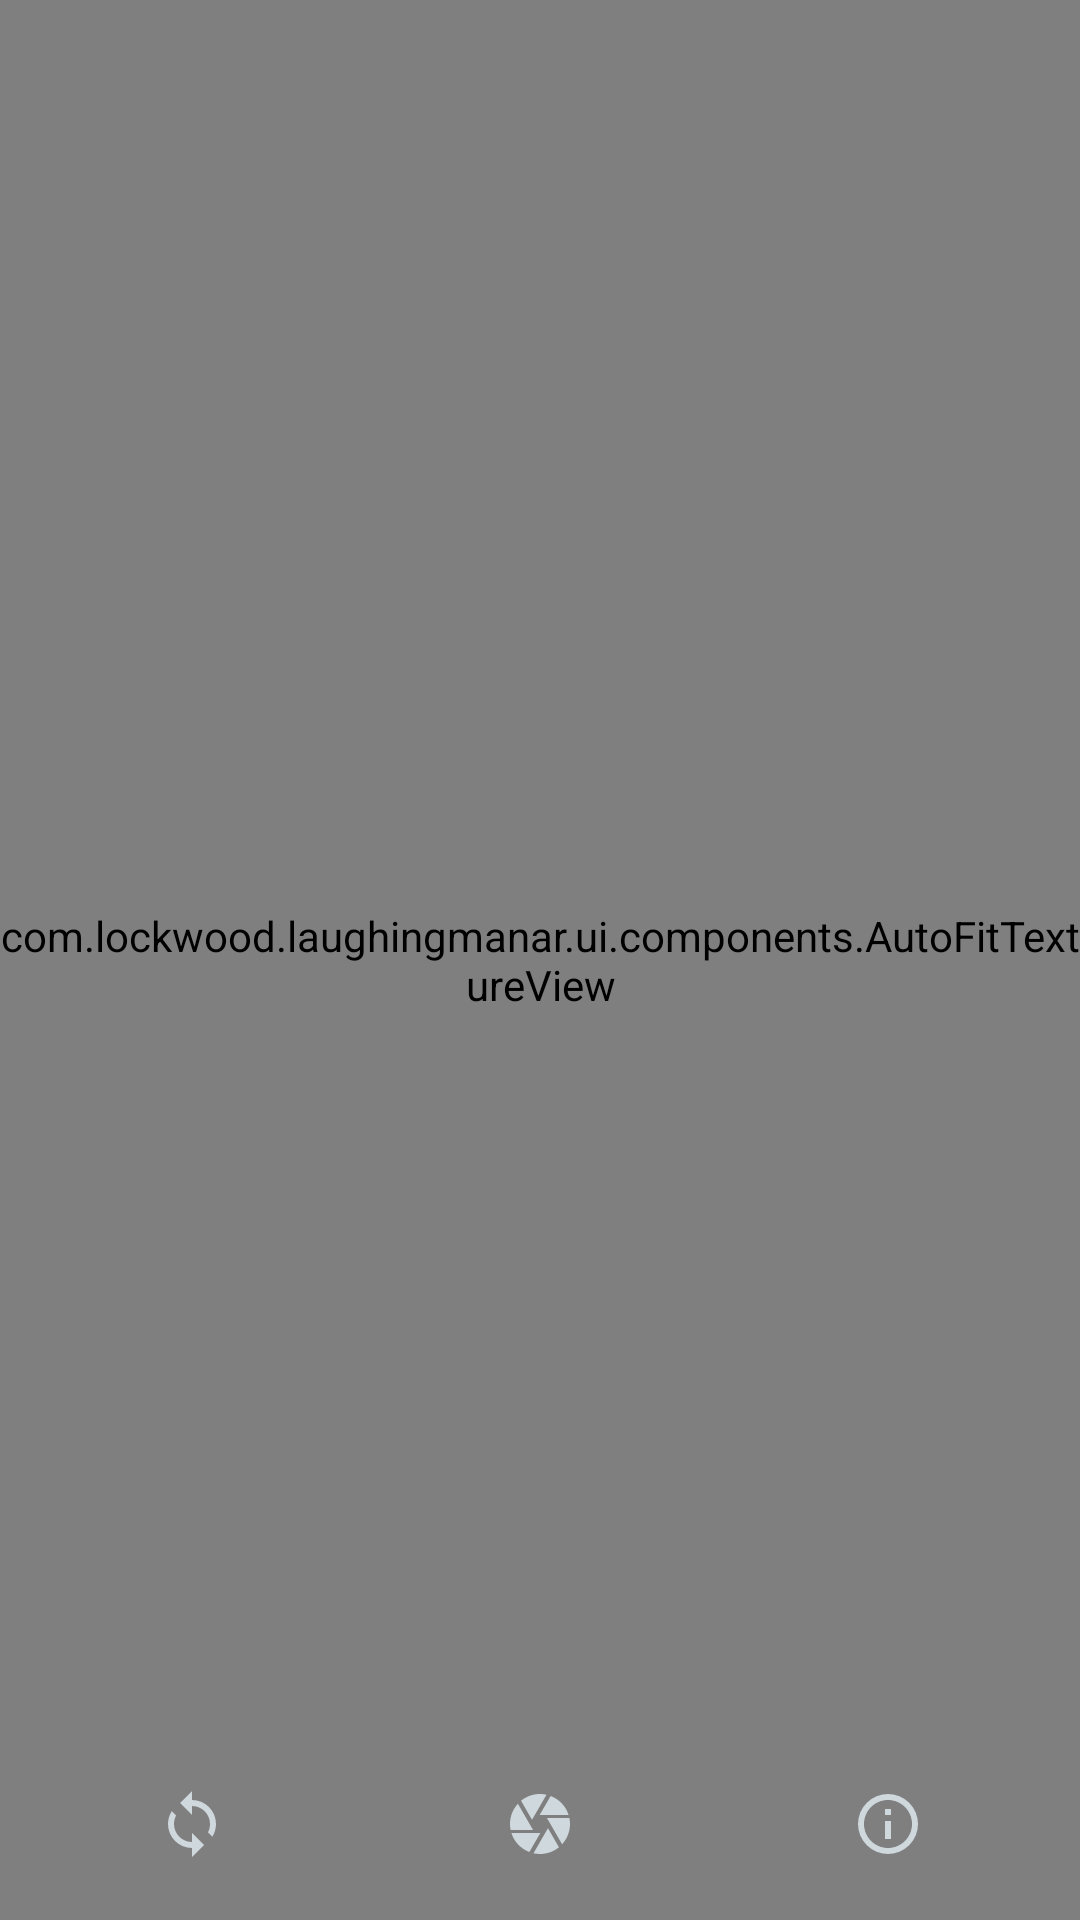

Named icons in this screenshot (1080px x 1920px) and their bounding boxes, (x1, y1, x2, y2):
Capture: (510, 1794, 570, 1854)
Info: (858, 1794, 918, 1854)
Swap: (168, 1791, 216, 1857)
